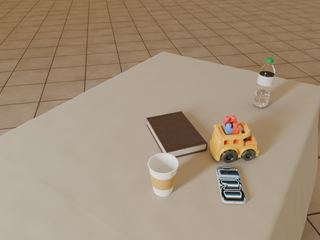book: (146, 111, 207, 158)
bottle: (253, 58, 275, 108)
cup: (148, 153, 178, 196)
phone: (216, 167, 246, 204)
toy_car: (209, 115, 259, 163)
